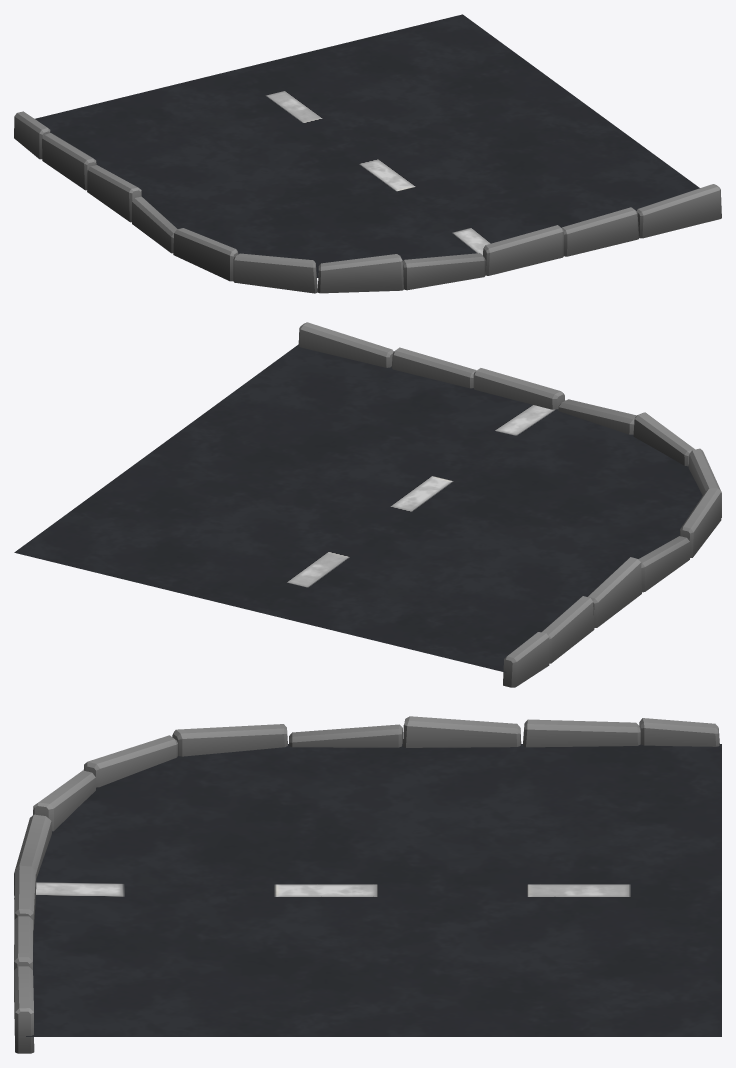
Rendered from Road_02.fbx.
3 views of the same model, one above another, from view 1: azimuth 30°, elevation 25°; view 2: azimuth 150°, elevation 25°; view 3: azimuth 270°, elevation 25° (orthographic). The views are drawn at different scales.
Parts seen in each view (by area): view 1: Road.002; view 2: Road.002; view 3: Road.002.
Part boxes in pixels (x1,y1,x2,y2): Road.002: (14, 14, 721, 293); Road.002: (14, 322, 721, 687); Road.002: (14, 716, 721, 1053).
Size of the model in its own units: 600 by 40 by 600.
